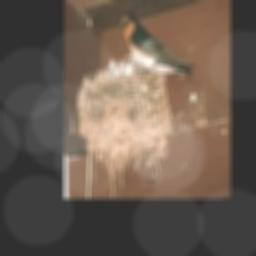Swallow: (120, 13, 195, 76)
